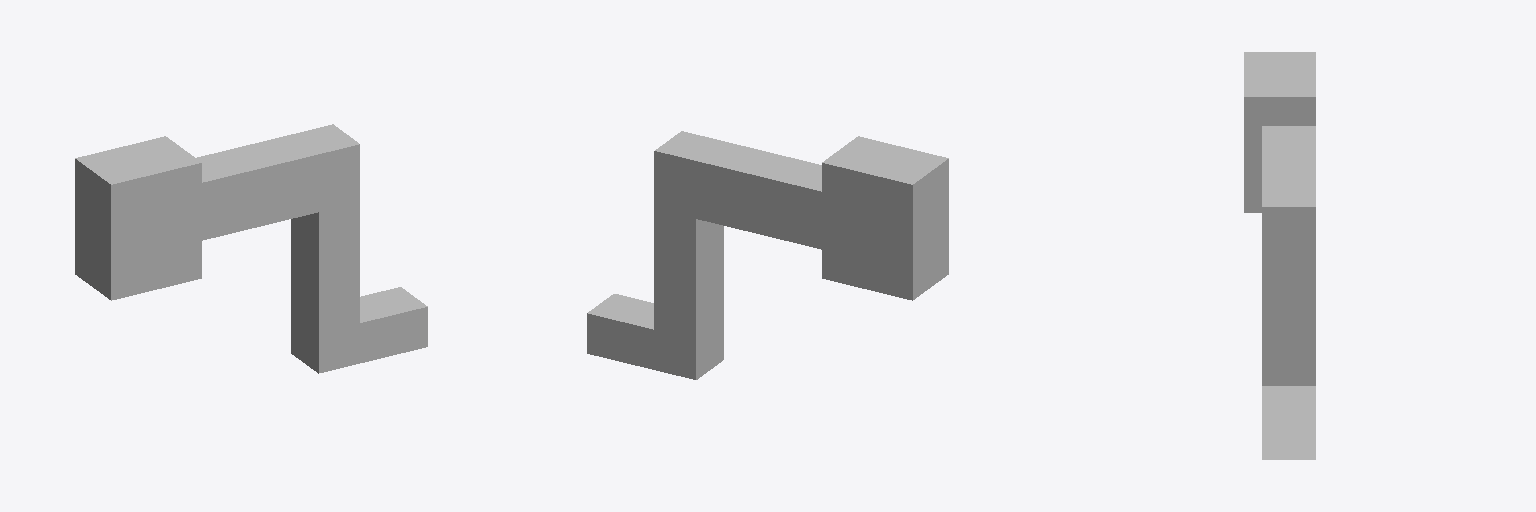
File: house.obj
The picture shows the model from 3 angles: view 1: azimuth 30°, elevation 25°; view 2: azimuth 150°, elevation 25°; view 3: azimuth 270°, elevation 25°; orthographic projection.
Visible parts, largest first — view 1: obj1; view 2: obj1; view 3: obj1.
Part boxes in pixels (left/top/right/bottom): obj1: left=75, top=124, right=427, bottom=373; obj1: left=587, top=131, right=948, bottom=379; obj1: left=1244, top=52, right=1315, bottom=459.
Bounding box in the file's own units: 92.53 × 67.37 × 17.83.